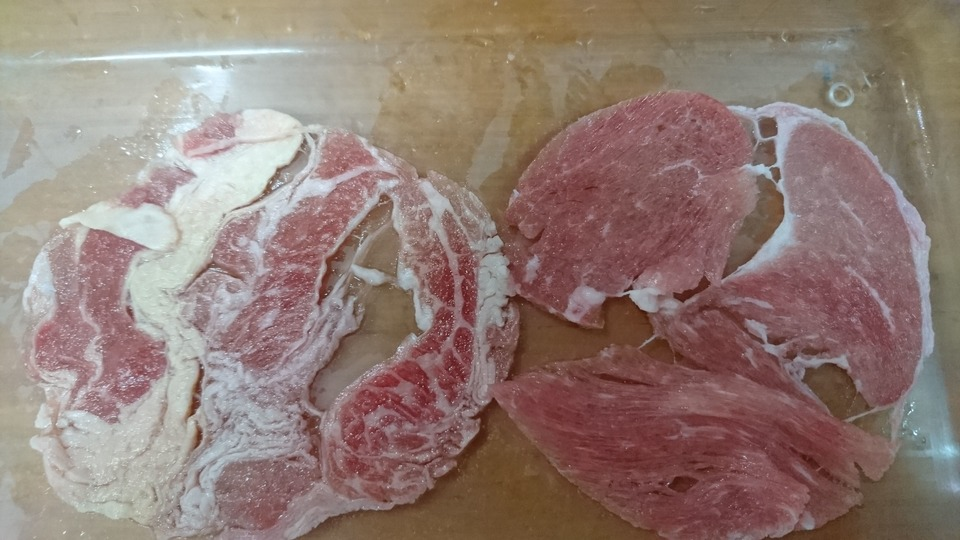restructured meat: (486, 72, 940, 530), (17, 113, 502, 524)
